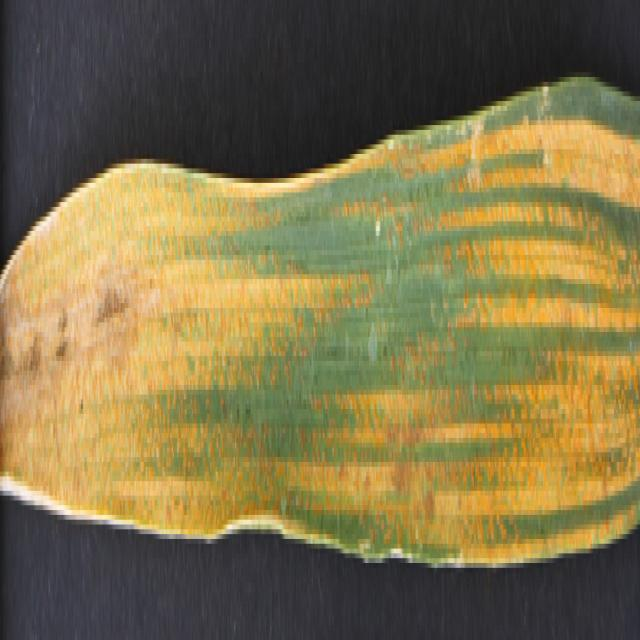leaf rust: (1, 97, 640, 578)
